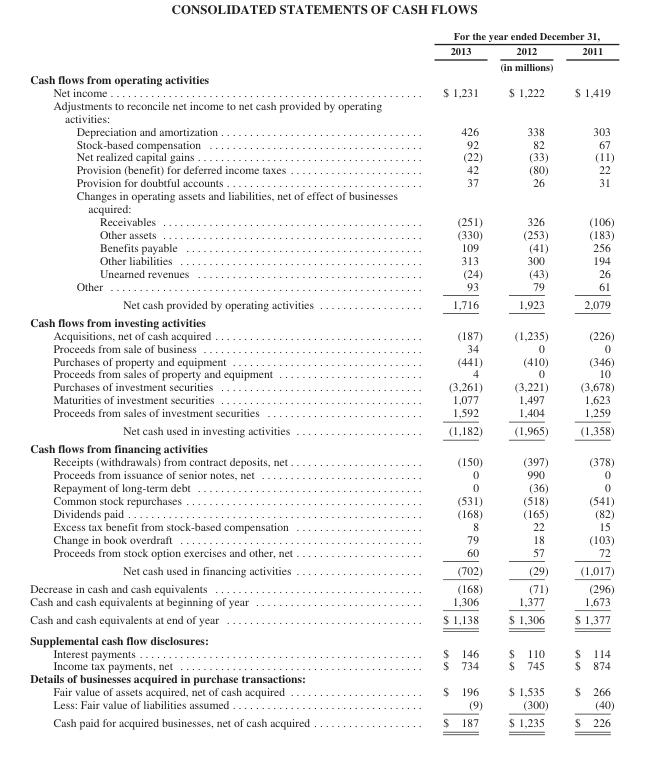table: (29, 29, 613, 728)
table column: (29, 29, 377, 728), (377, 29, 494, 728), (494, 29, 560, 728), (560, 29, 613, 728)
table column header: (29, 29, 613, 72)
table projected row header: (29, 98, 613, 124), (29, 188, 613, 214), (29, 629, 613, 646), (29, 312, 613, 328), (29, 439, 613, 454), (29, 72, 613, 85), (29, 671, 613, 684)
table row: (29, 98, 613, 124), (29, 188, 613, 214), (29, 609, 613, 629), (29, 294, 613, 312), (29, 421, 613, 439), (29, 560, 613, 578), (29, 629, 613, 646), (29, 312, 613, 328), (29, 405, 613, 421), (29, 578, 613, 594), (29, 697, 613, 713), (29, 43, 613, 58), (29, 279, 613, 294), (29, 439, 613, 454), (29, 545, 613, 560), (29, 594, 613, 609), (29, 713, 613, 728), (29, 29, 613, 43), (29, 58, 613, 72), (29, 72, 613, 85), (29, 85, 613, 98), (29, 124, 613, 137), (29, 137, 613, 150), (29, 162, 613, 175), (29, 175, 613, 188), (29, 214, 613, 227), (29, 227, 613, 240), (29, 240, 613, 253), (29, 253, 613, 266), (29, 266, 613, 279), (29, 328, 613, 341), (29, 341, 613, 354), (29, 354, 613, 367), (29, 379, 613, 392), (29, 392, 613, 405), (29, 454, 613, 467), (29, 467, 613, 480), (29, 480, 613, 493), (29, 493, 613, 506), (29, 506, 613, 519), (29, 519, 613, 532), (29, 532, 613, 545), (29, 646, 613, 659), (29, 671, 613, 684), (29, 684, 613, 697), (29, 150, 613, 162), (29, 367, 613, 379), (29, 659, 613, 671)
table spanning cell: (377, 29, 613, 43), (377, 58, 613, 72)
